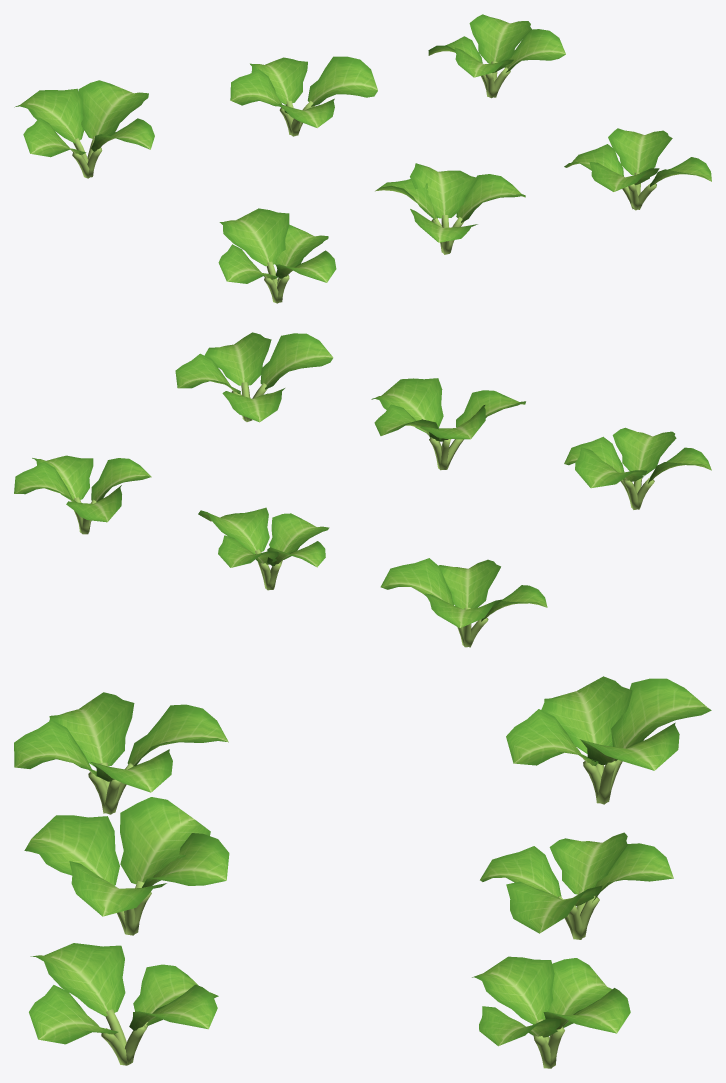
Rendered from crop_turnip_1.glb.
The picture shows the model from 3 angles, top to bottom: view 1: azimuth 30°, elevation 25°; view 2: azimuth 150°, elevation 25°; view 3: azimuth 270°, elevation 25°; orthographic projection. The views are drawn at different scales.
Visible parts, largest first — view 1: model; view 2: model; view 3: model.
Part boxes in pixels (x1=…): model: x1=14, y1=14, x2=711, y2=303; model: x1=14, y1=332, x2=711, y2=647; model: x1=14, y1=676, x2=711, y2=1068.
Size of the model in its own units: 0.7559 by 0.1051 by 0.6349.
2 materials, 1 textured.
